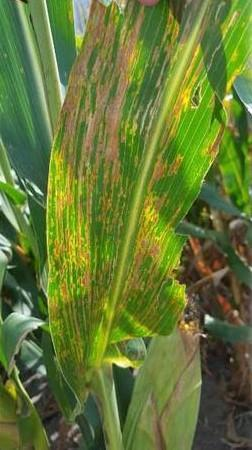Corn_Blight: (43, 2, 229, 384)
